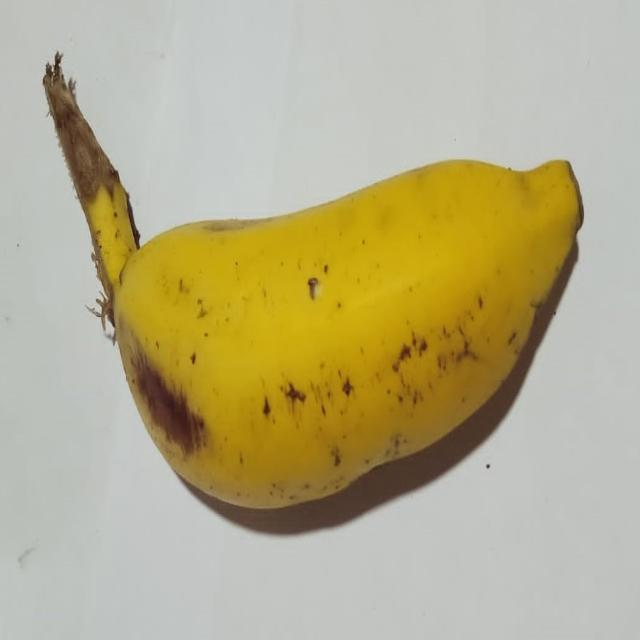banana: (44, 57, 582, 508)
